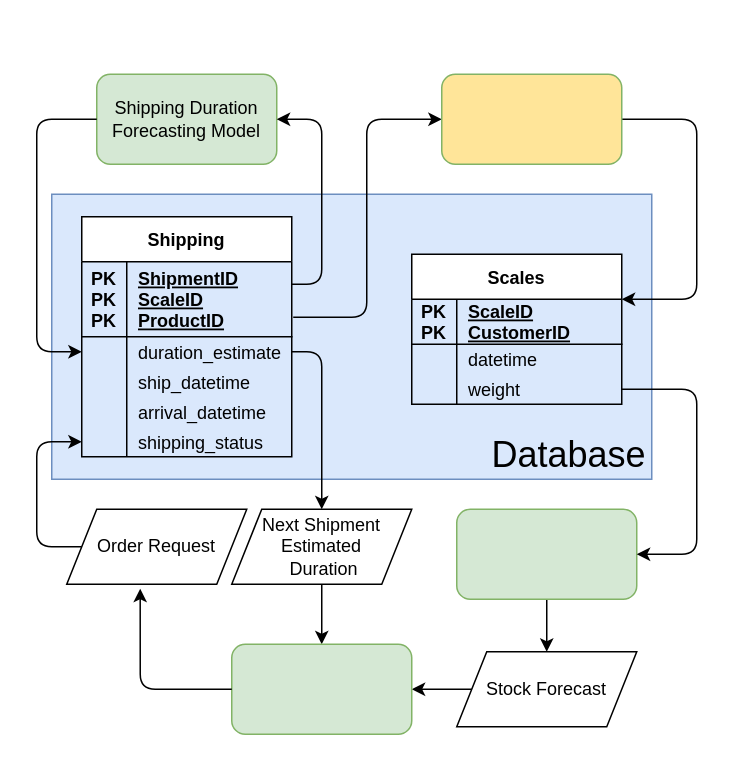
Image size: 735x761. Some labels were removed from this diagram. The centre of each missing label's shape, as x and y in pixels:
"Ordering Process" goes at (x=321, y=688).
"Shipment" goes at (x=531, y=118).
"Stock Forecasting Model" goes at (x=546, y=553).
